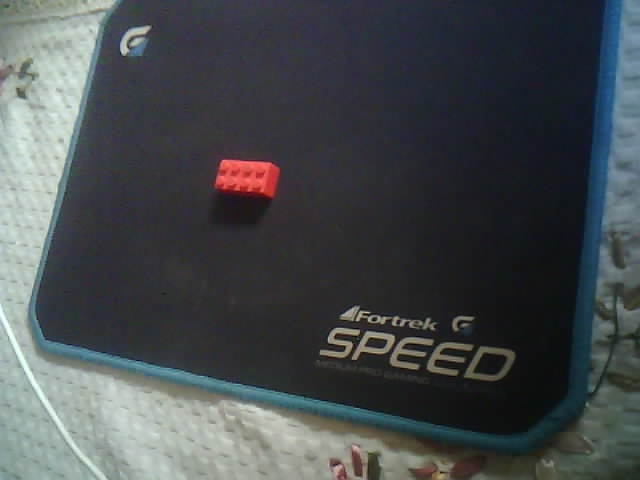lego: (213, 158, 281, 201)
